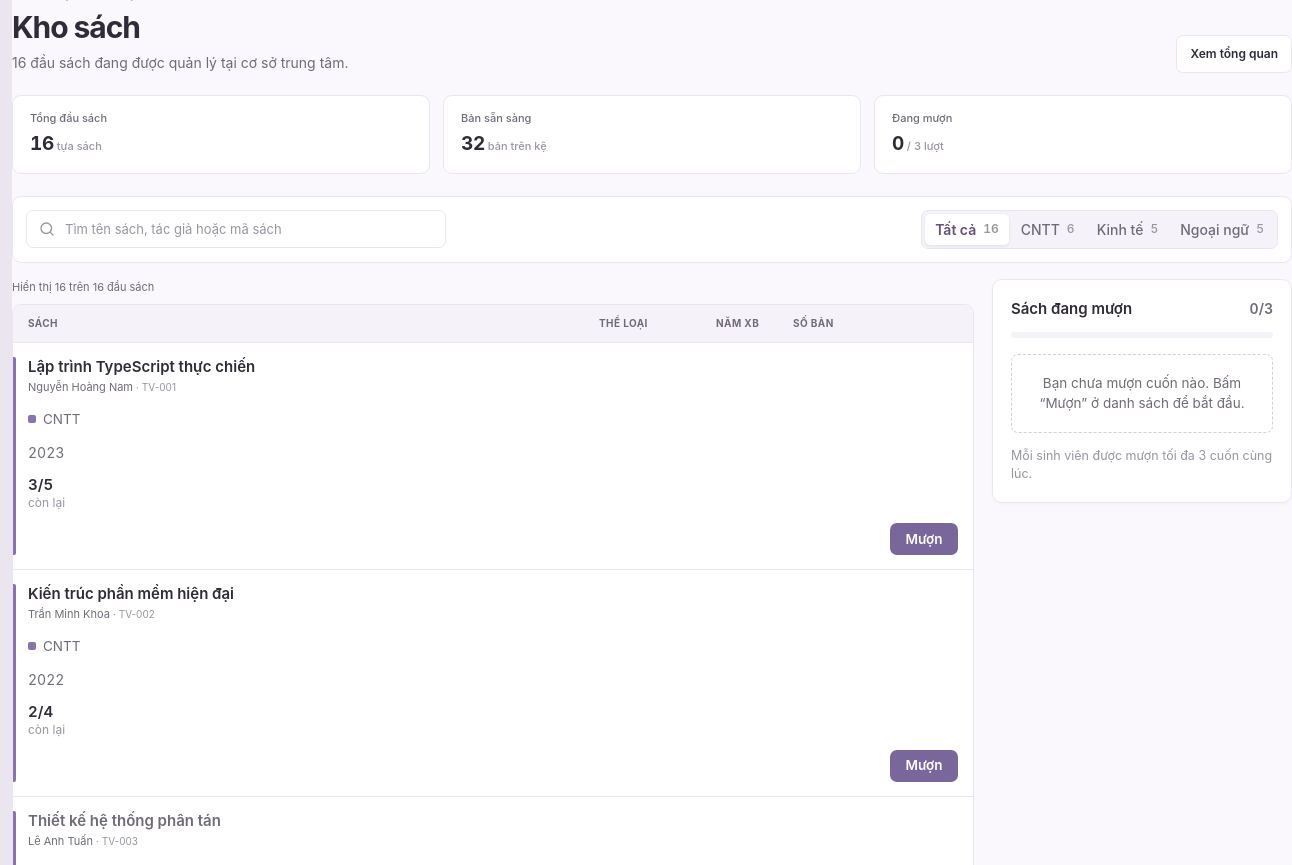
Test: LibraryPage — luồng mượn/trả › mượn tối đa 3 cuốn, cuốn thứ 4 bị chặn kèm cảnh báo, trả sách thì số bản tăng lại
Click the button with aria-label "Mượn Lập trình TypeScript thực chiến" at (924, 539), box [890, 523, 958, 555]
(page scrolled)
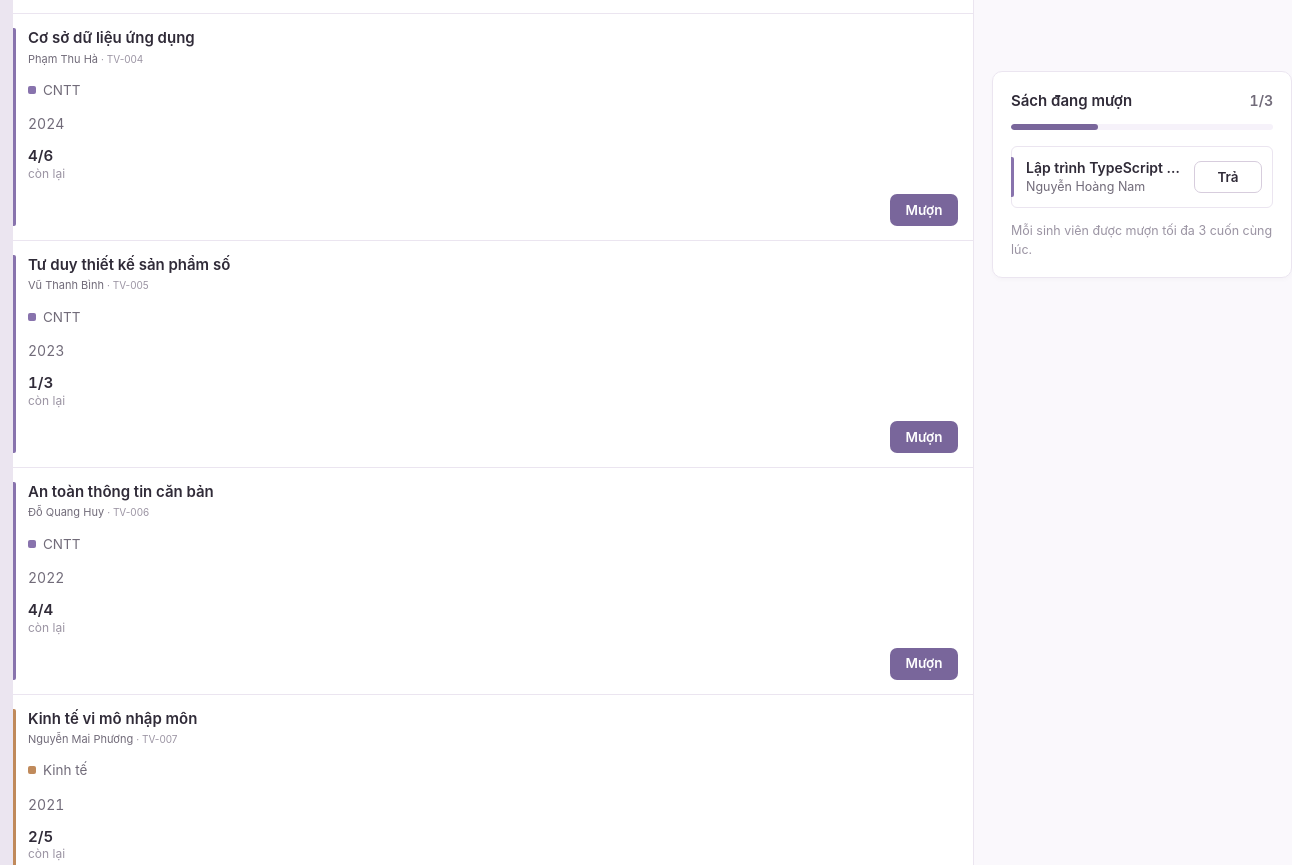
Click the button with aria-label "Mượn Tư duy thiết kế sản phẩm số" at (924, 437), box [890, 421, 958, 453]
(page scrolled)
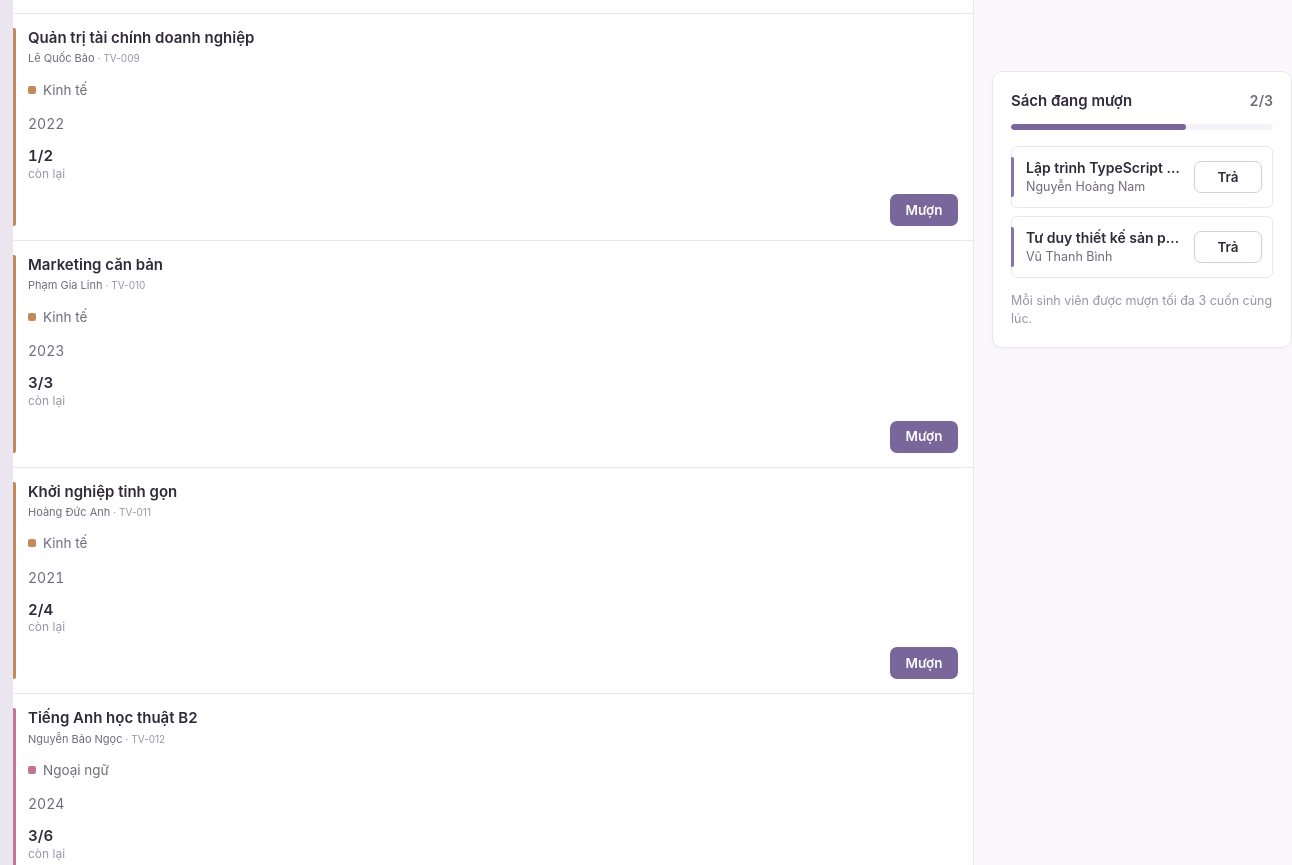
Click the button with aria-label "Mượn Marketing căn bản" at (924, 436), box [890, 420, 958, 452]
(page scrolled)
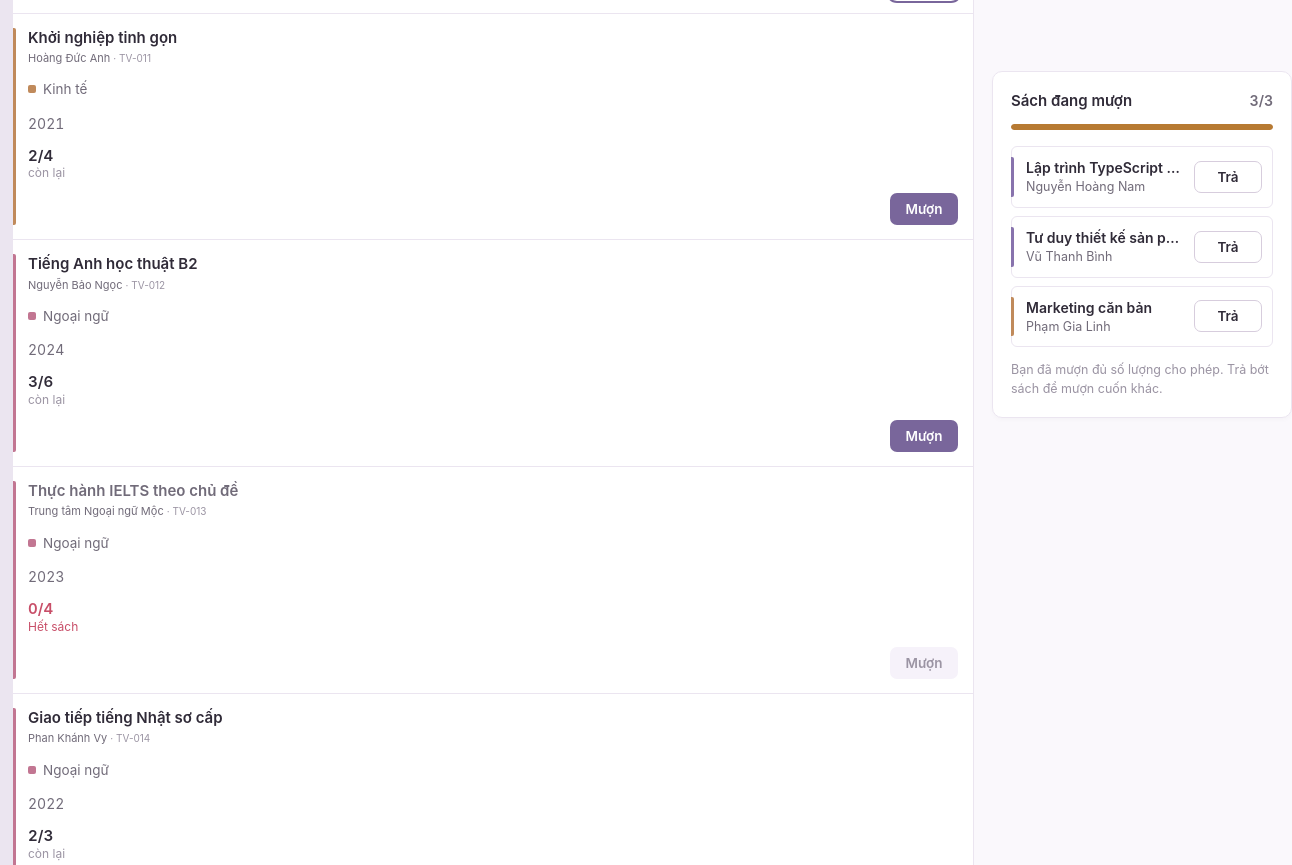
Click the button with aria-label "Mượn Tiếng Anh học thuật B2" at (924, 436), box [890, 420, 958, 452]
(page scrolled)
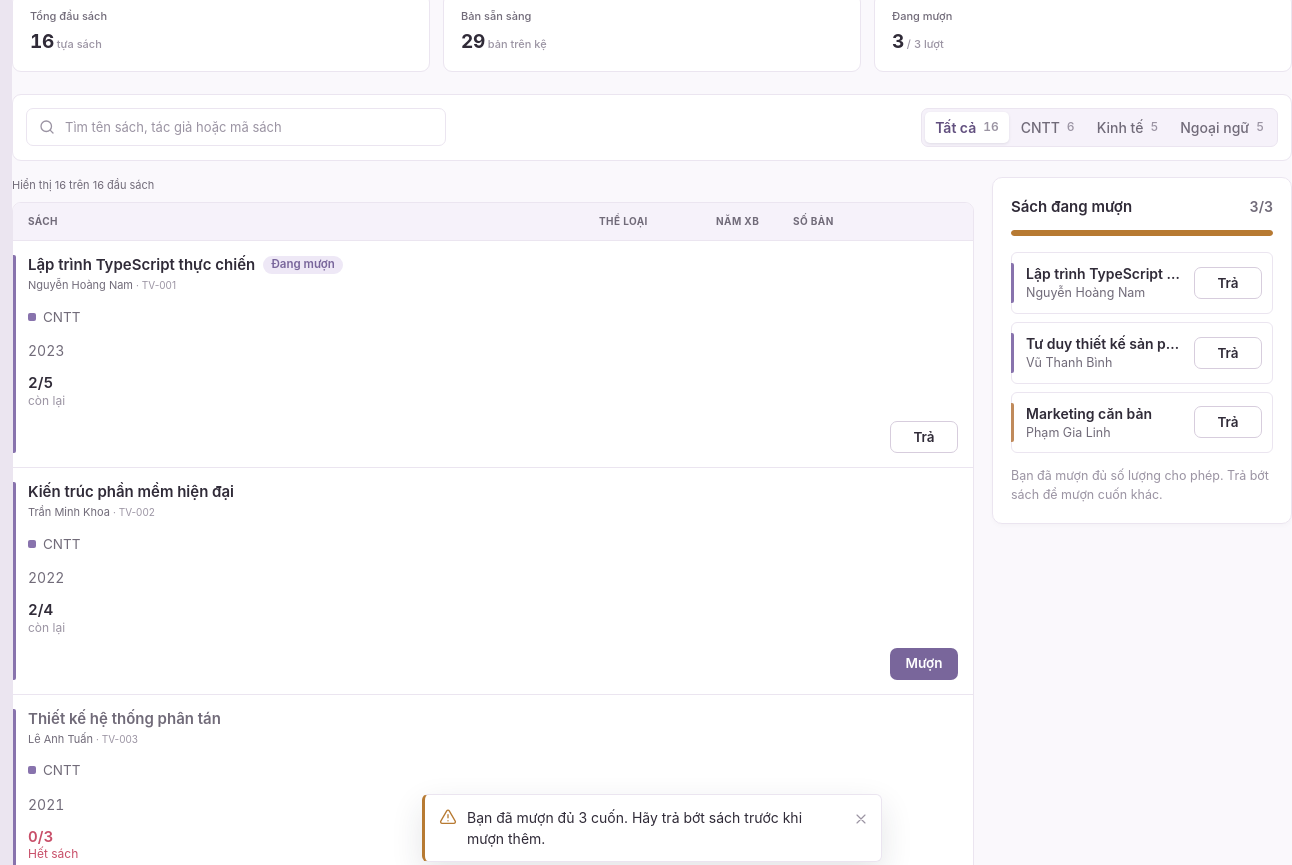
Check: the text "2/5" is shown, box [28, 373, 53, 392]
Click the button with aria-label "Trả Lập trình TypeScript thực chiến" at (924, 437), box [890, 421, 958, 453]
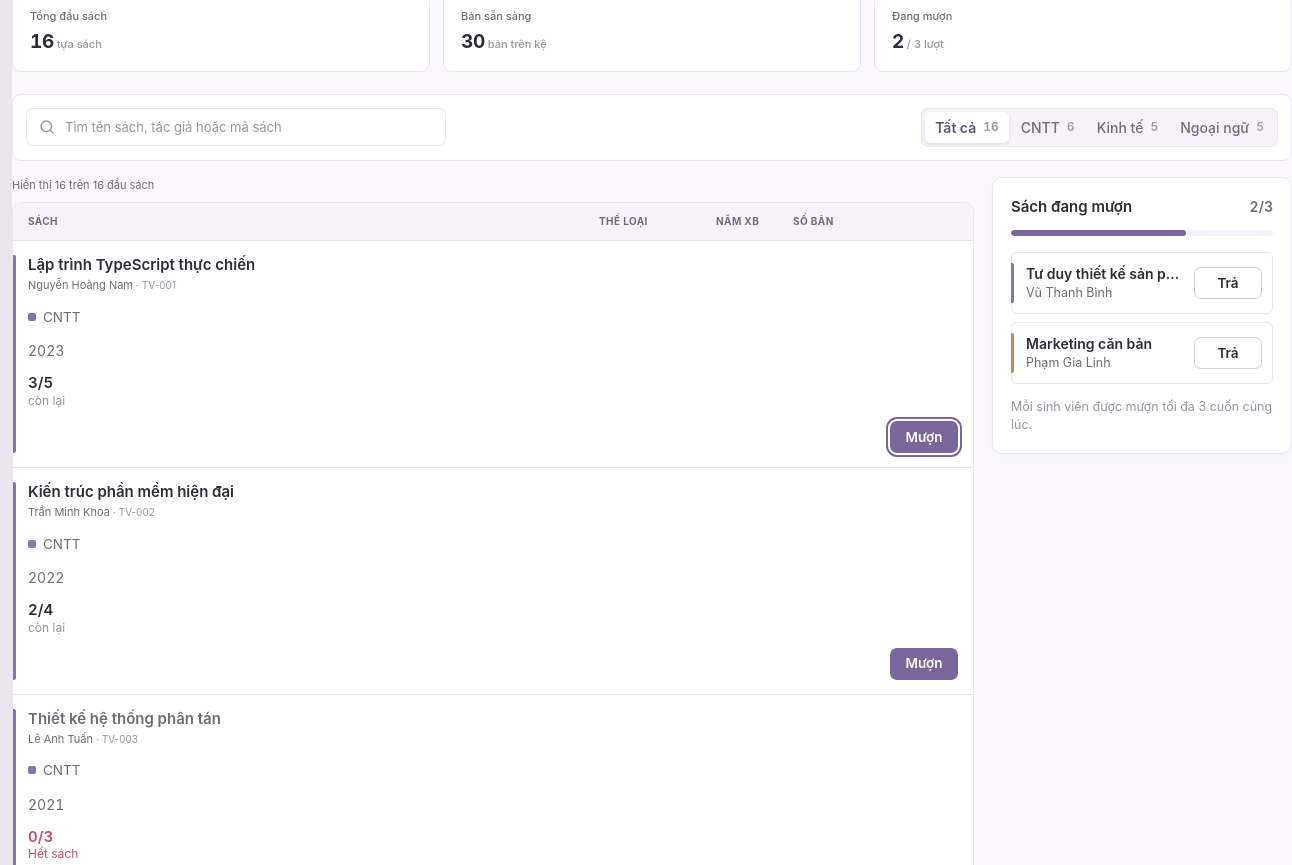
Check: the text "3/5" is shown, box [28, 373, 53, 392]
